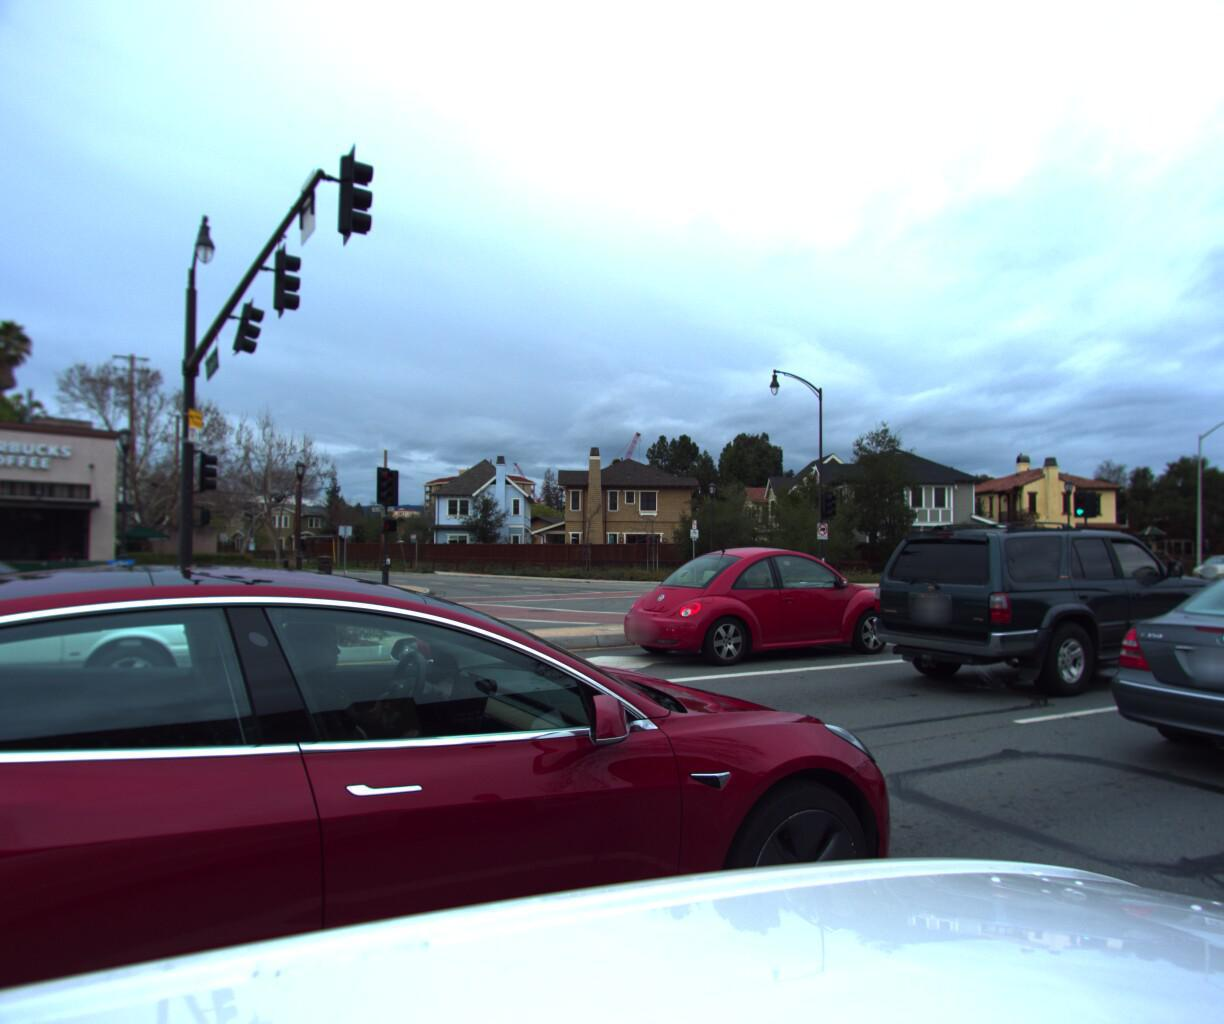car: (0, 505, 953, 1024), (847, 506, 1224, 708), (0, 551, 242, 777), (615, 537, 924, 677), (1082, 552, 1224, 826), (1179, 549, 1224, 580), (1218, 549, 1224, 578)
